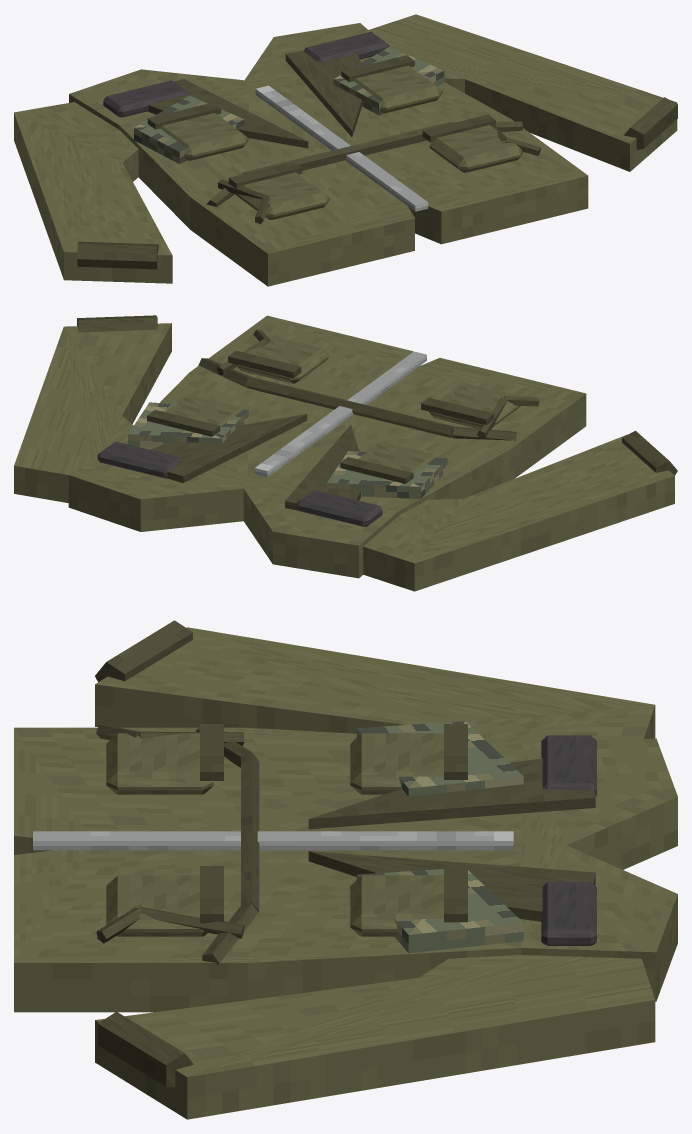
File: jacket_army_modern.glb
The picture shows the model from 3 angles, top to bottom: view 1: azimuth 30°, elevation 25°; view 2: azimuth 150°, elevation 25°; view 3: azimuth 270°, elevation 25°; orthographic projection. The views are drawn at different scales.
Visible parts, largest first — view 1: block_coat body, block_sleeve (×2), block_patch pocket (×4), block_lapel (×2), block_cuff 0 (×2), block_angled breast pocket (×2), block_pocket welt (×4), block_loop field (×2), block_zipper track, block_waist drawstring 1; view 2: block_coat body, block_sleeve (×2), block_patch pocket (×4), block_lapel (×2), block_angled breast pocket (×2), block_pocket welt (×4), block_loop field (×2), block_zipper track, block_waist drawstring 1, block_cuff 0 (×2), block_waist drawstring 0, block_waist drawstring 2; view 3: block_coat body, block_sleeve (×2), block_patch pocket (×4), block_lapel (×2), block_angled breast pocket (×2), block_zipper track, block_loop field (×2), block_cuff 0 (×2), block_pocket welt (×4), block_waist drawstring 1, block_drawstring end 0, block_waist drawstring 2.
Boxes of the visible parts, x1=… form: block_coat body: x1=69, y1=23, x2=588, y2=286; block_sleeve (×2): x1=14, y1=14, x2=677, y2=283; block_patch pocket (×4): x1=160, y1=65, x2=523, y2=220; block_lapel (×2): x1=147, y1=50, x2=361, y2=148; block_cuff 0 (×2): x1=77, y1=97, x2=677, y2=269; block_angled breast pocket (×2): x1=134, y1=47, x2=444, y2=163; block_pocket welt (×4): x1=147, y1=55, x2=495, y2=188; block_loop field (×2): x1=103, y1=32, x2=389, y2=117; block_zipper track: x1=255, y1=85, x2=428, y2=211; block_waist drawstring 1: x1=244, y1=122, x2=448, y2=173; block_coat body: x1=68, y1=315, x2=586, y2=578; block_sleeve (×2): x1=14, y1=323, x2=674, y2=591; block_patch pocket (×4): x1=165, y1=335, x2=520, y2=473; block_lapel (×2): x1=150, y1=414, x2=361, y2=510; block_angled breast pocket (×2): x1=128, y1=402, x2=447, y2=498; block_pocket welt (×4): x1=147, y1=350, x2=494, y2=483; block_loop field (×2): x1=97, y1=441, x2=382, y2=526; block_zipper track: x1=254, y1=351, x2=426, y2=477; block_waist drawstring 1: x1=247, y1=377, x2=454, y2=437; block_cuff 0 (×2): x1=77, y1=315, x2=677, y2=475; block_waist drawstring 0: x1=453, y1=427, x2=516, y2=440; block_waist drawstring 2: x1=198, y1=358, x2=252, y2=388; block_coat body: x1=14, y1=727, x2=677, y2=1012; block_sleeve (×2): x1=95, y1=627, x2=655, y2=1119; block_patch pocket (×4): x1=106, y1=733, x2=443, y2=936; block_lapel (×2): x1=308, y1=758, x2=595, y2=921; block_angled breast pocket (×2): x1=356, y1=721, x2=523, y2=953; block_zipper track: x1=33, y1=831, x2=513, y2=850; block_loop field (×2): x1=541, y1=735, x2=596, y2=945; block_cuff 0 (×2): x1=95, y1=620, x2=193, y2=1087; block_pocket welt (×4): x1=200, y1=724, x2=467, y2=923; block_waist drawstring 1: x1=241, y1=753, x2=259, y2=911; block_drawstring end 0: x1=140, y1=907, x2=244, y2=938; block_waist drawstring 2: x1=202, y1=903, x2=258, y2=965.
Bounding box in the file's own units: 0.6851 × 0.0537 × 0.4272.
Materials: 1 (1 with a texture image).
